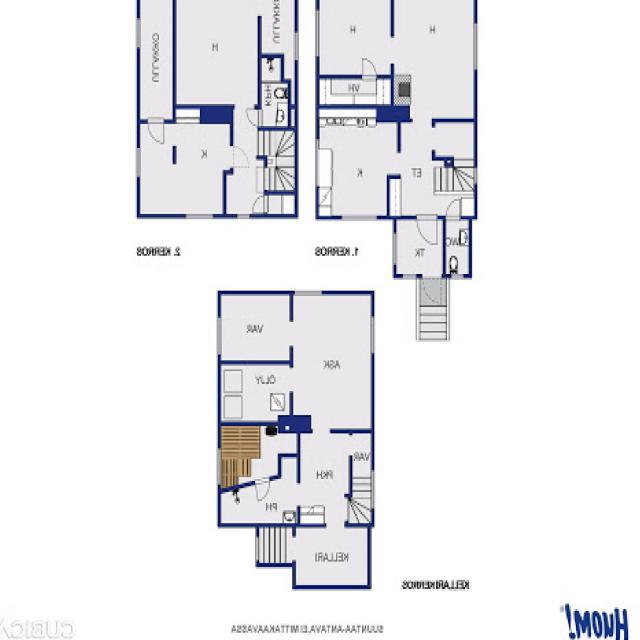door: (417, 216, 437, 247), (326, 499, 344, 527), (332, 435, 353, 457), (255, 475, 271, 499), (149, 120, 165, 144), (363, 57, 377, 79), (447, 198, 460, 220), (252, 196, 268, 213), (247, 111, 262, 126)
